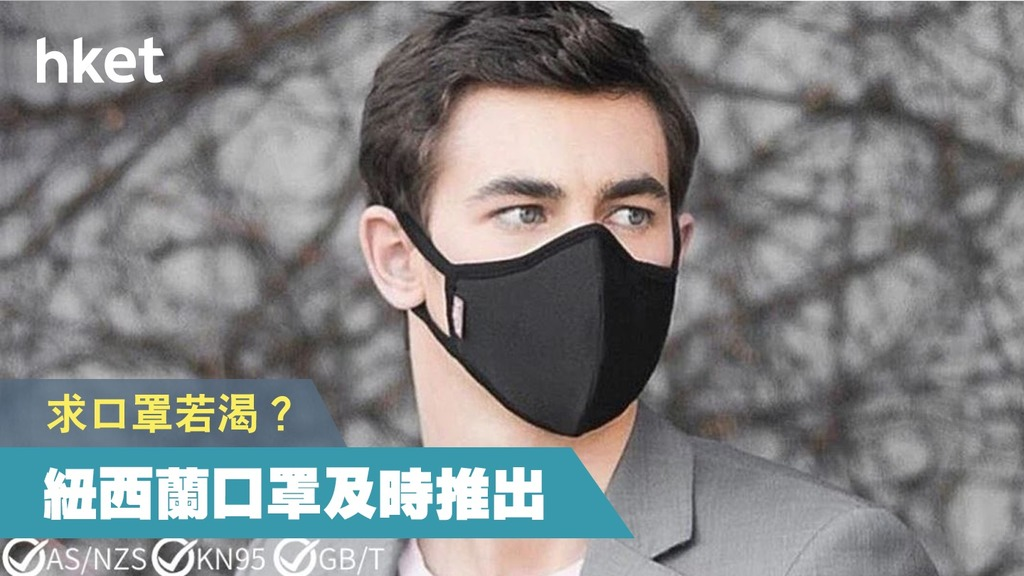Mask: (409, 77, 694, 434)
